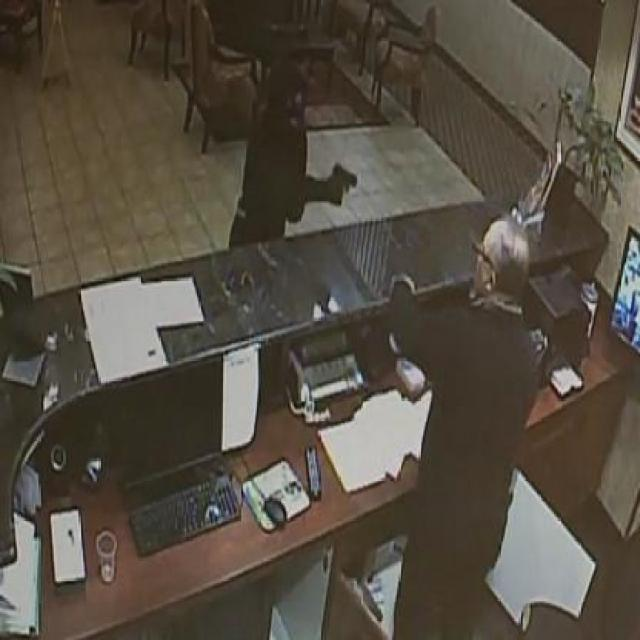weapon: (324, 161, 362, 214)
